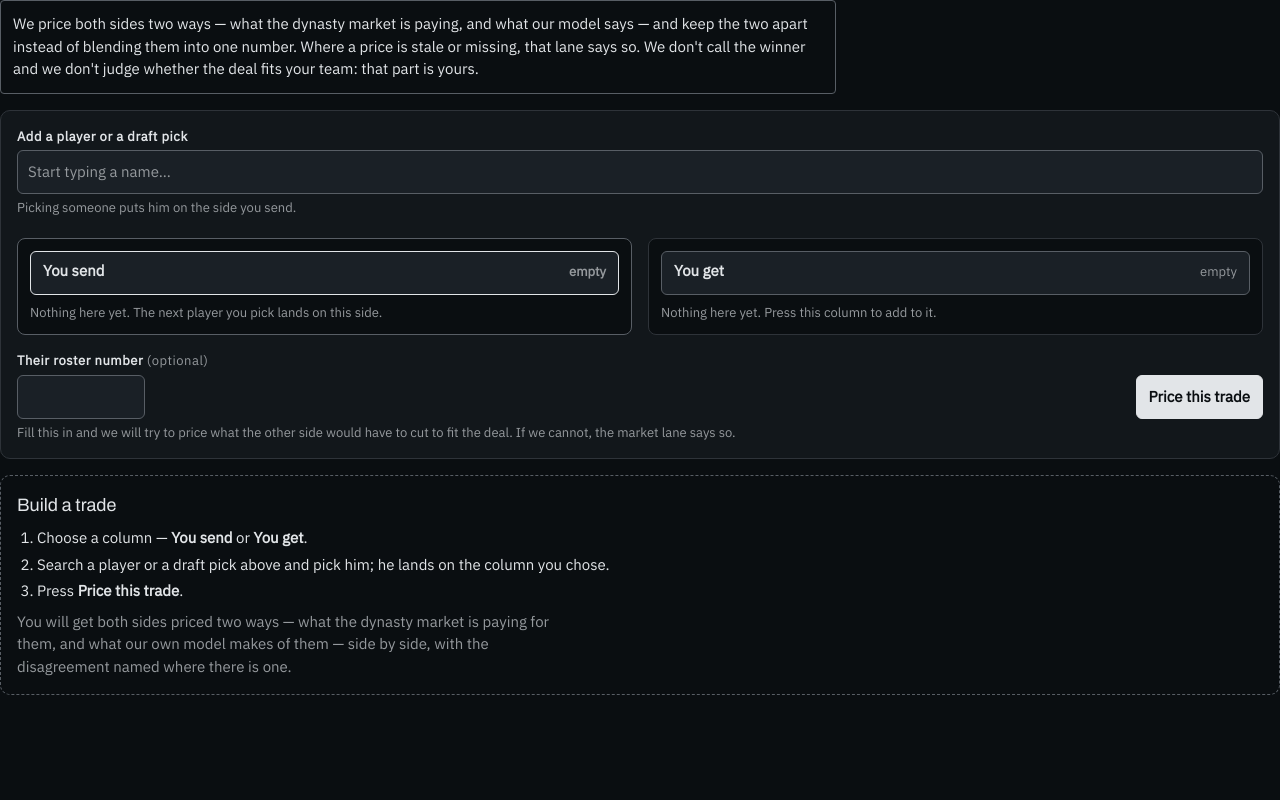
it: TradeLab two-side builder and parallel run › routes the next selected asset to received after switching active side
Click the button "You get empty" at [699, 270], box [661,250,1250,294]
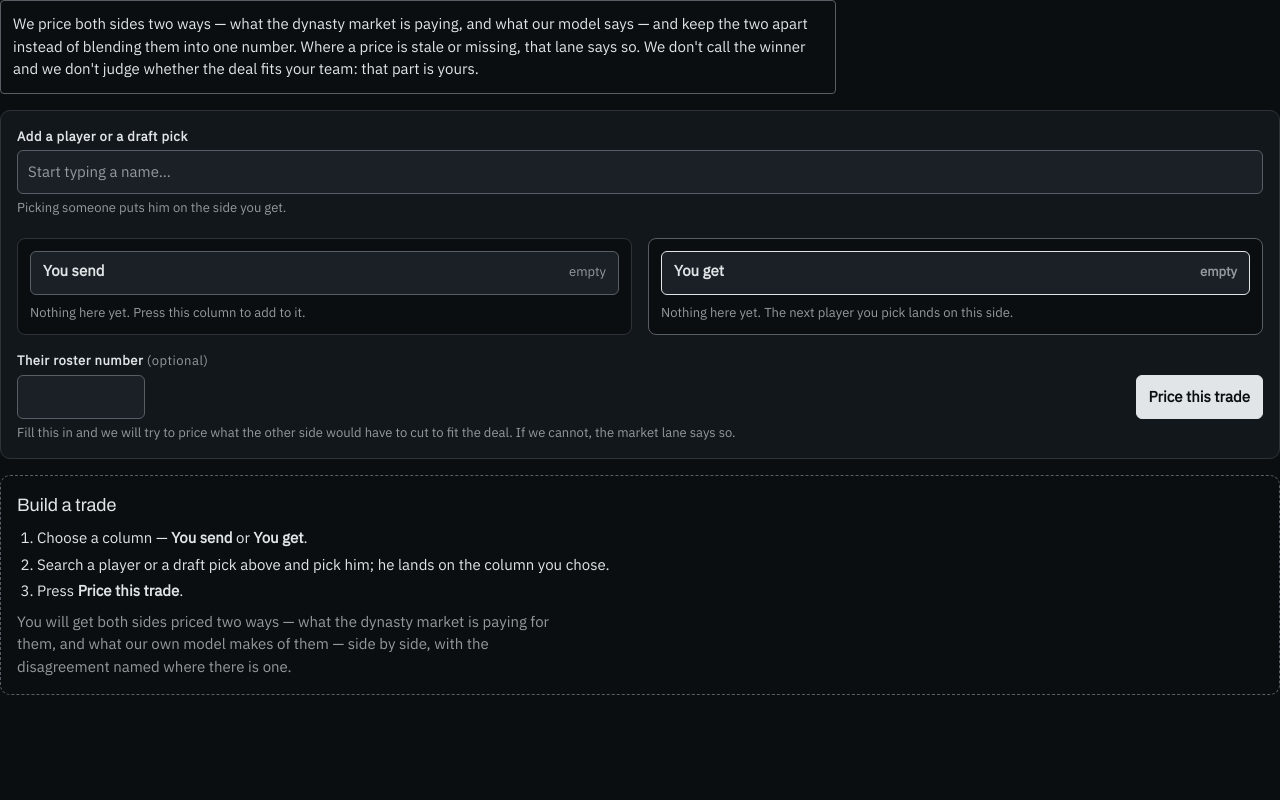
Type "cha" into the search field at [640, 172], box [17,150,1263,194]
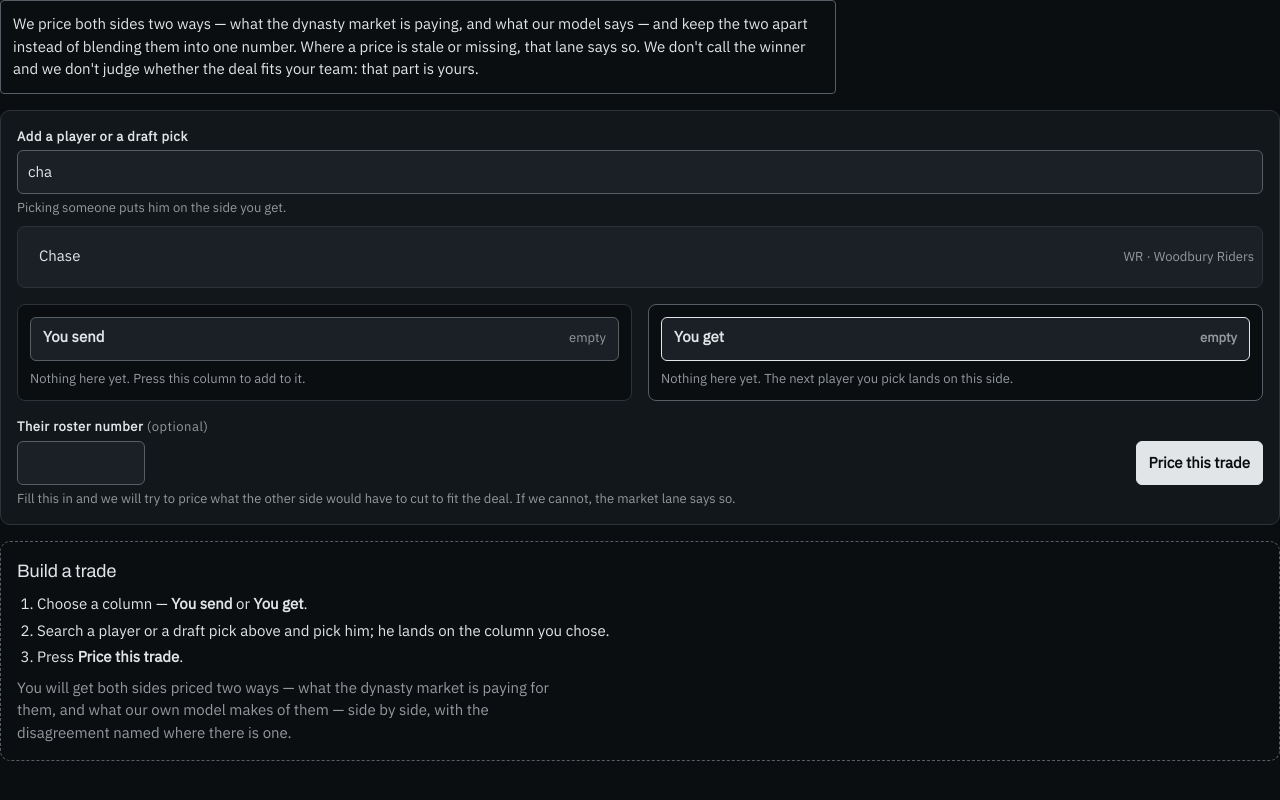
Click the button "Chase" at [60, 256], box [26,234,1116,278]
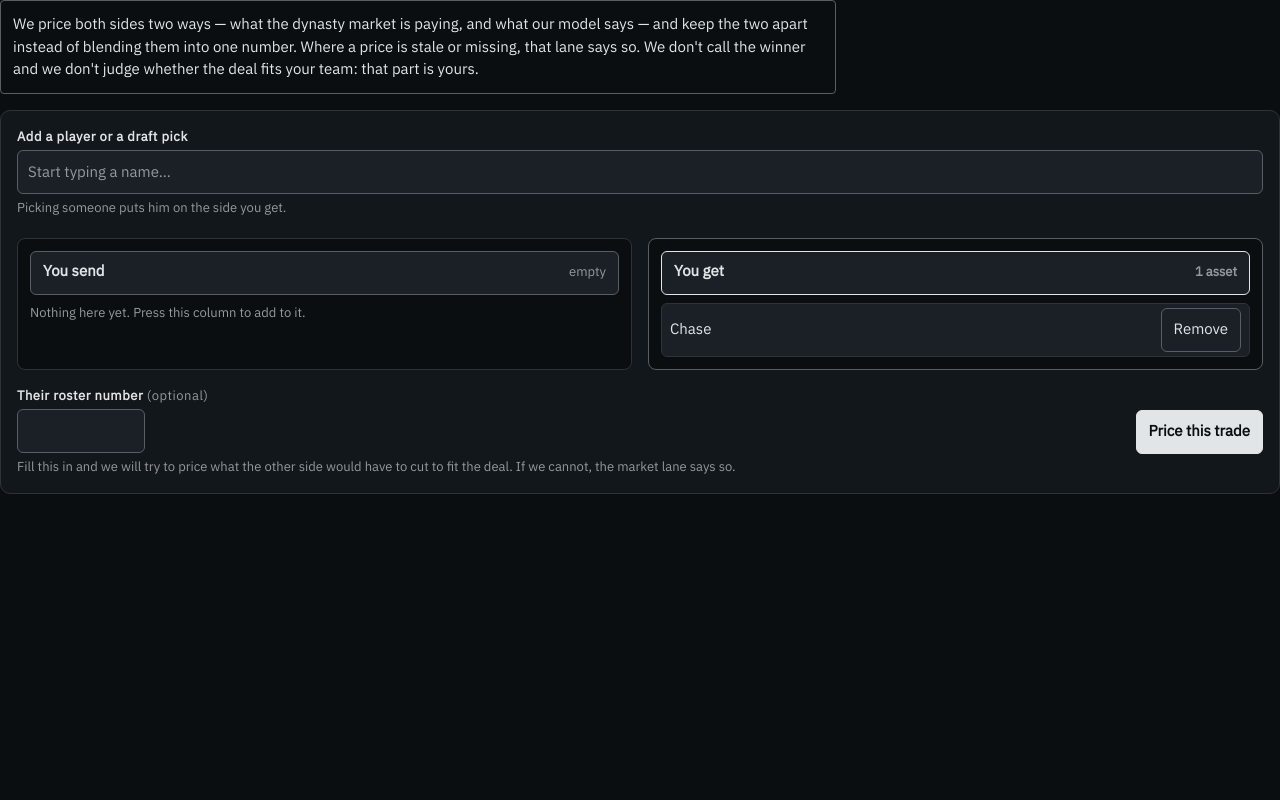
Expected: the list item "Chase" is shown, [670,319,711,338]
